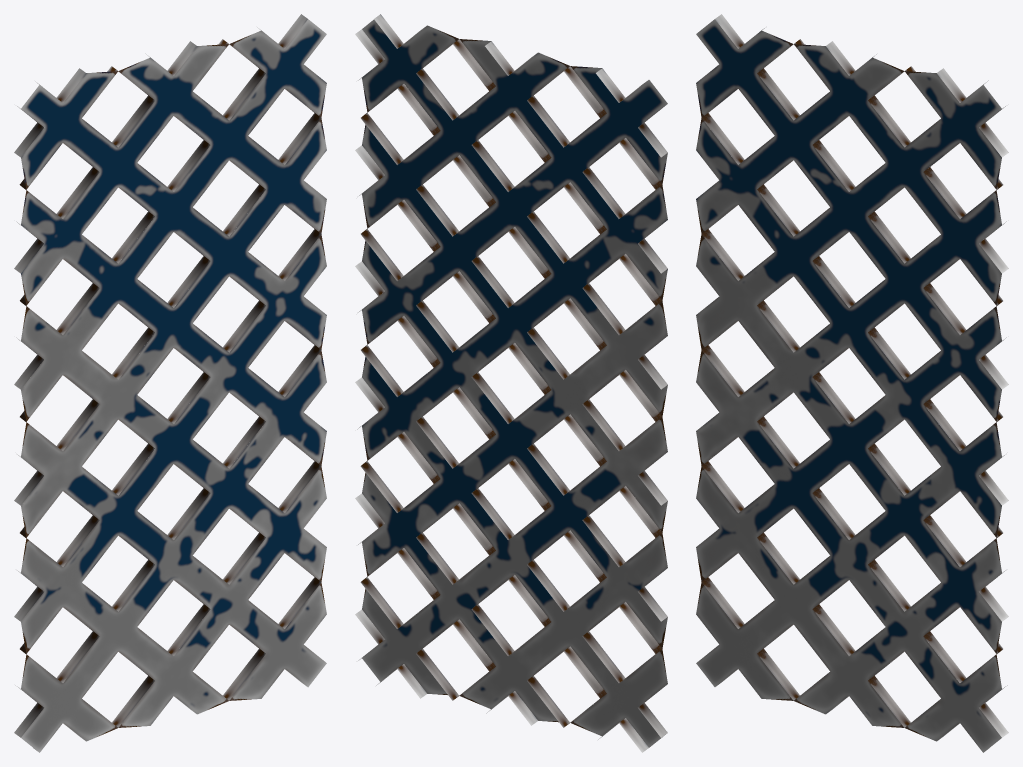
File: BarredWindow_B.fbx
The picture shows the model from 3 angles, left to right: view 1: azimuth 30°, elevation 25°; view 2: azimuth 150°, elevation 25°; view 3: azimuth 330°, elevation 25°; orthographic projection.
Parts seen in each view (by area): view 1: U_BarredWindow_B; view 2: U_BarredWindow_B; view 3: U_BarredWindow_B.
Part boxes in pixels (x1=…): U_BarredWindow_B: x1=14, y1=14, x2=326, y2=752; U_BarredWindow_B: x1=355, y1=14, x2=667, y2=752; U_BarredWindow_B: x1=696, y1=14, x2=1008, y2=752.
Size of the model in its own units: 105 by 220 by 4.11.
Materials: 1 (1 with a texture image).
